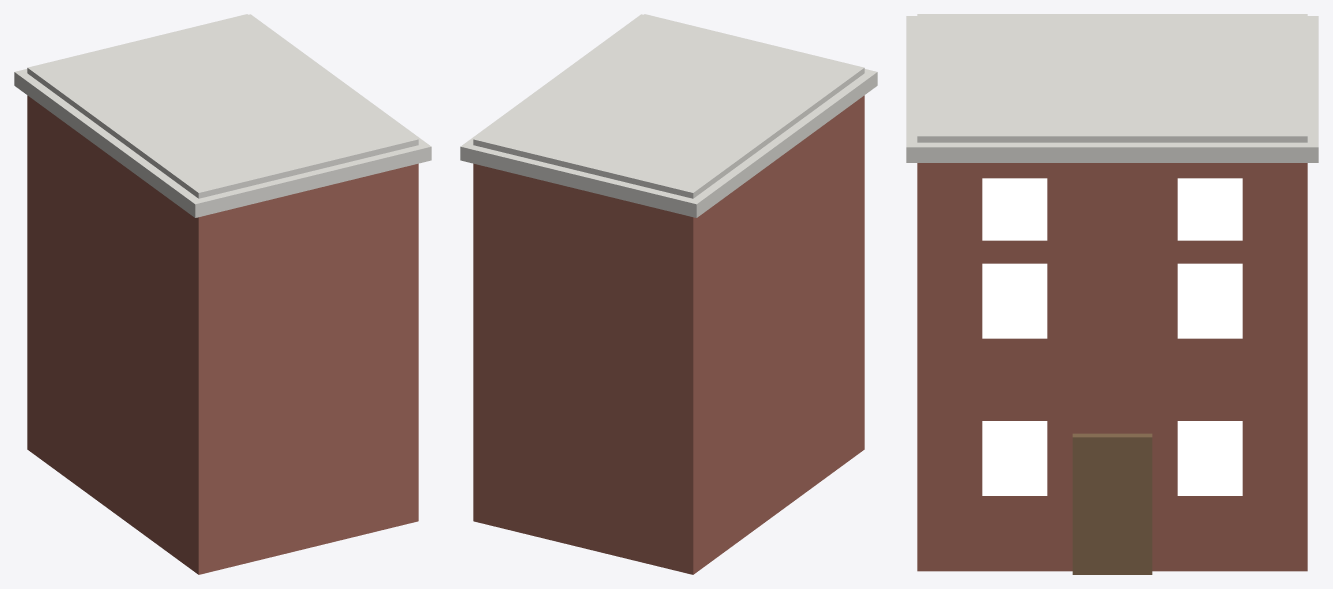
Rendered from Townhouse.fbx.
The picture shows the model from 3 angles, left to right: view 1: azimuth 30°, elevation 25°; view 2: azimuth 150°, elevation 25°; view 3: azimuth 270°, elevation 25°; orthographic projection. The views are drawn at different scales.
Visible parts, largest first — view 1: TownBody, TownRoof, TownCornice; view 2: TownBody, TownRoof, TownCornice; view 3: TownBody, TownRoof, TownCornice, TownDoor, TownWindow3, TownWindow4, TownWindow1, TownWindow2, TownWindow5, TownWindow6.
Part boxes in pixels (x1,y1,x2,y2): TownBody: (27,95,418,574); TownRoof: (27,14,418,198); TownCornice: (14,14,431,217); TownBody: (473,95,864,574); TownRoof: (473,14,864,198); TownCornice: (460,14,877,217); TownBody: (917,163,1307,571); TownRoof: (917,14,1307,142); TownCornice: (906,16,1318,162); TownDoor: (1072,433,1152,574); TownWindow3: (982,263,1047,338); TownWindow4: (1177,263,1242,338); TownWindow1: (982,421,1047,495); TownWindow2: (1177,421,1242,495); TownWindow5: (982,178,1047,240); TownWindow6: (1177,178,1242,240).
Bounding box in the file's own units: 430 × 664 × 570.
